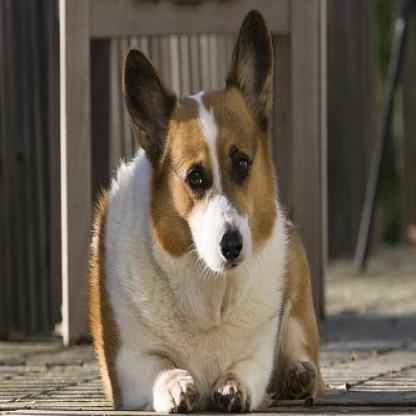Pembroke: (82, 5, 339, 413)
